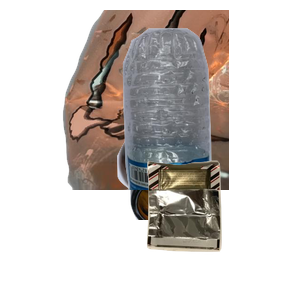glass: (115, 120, 300, 300)
metal: (60, 10, 300, 190)
plastic: (111, 26, 300, 206)
trash: (144, 158, 300, 300)
